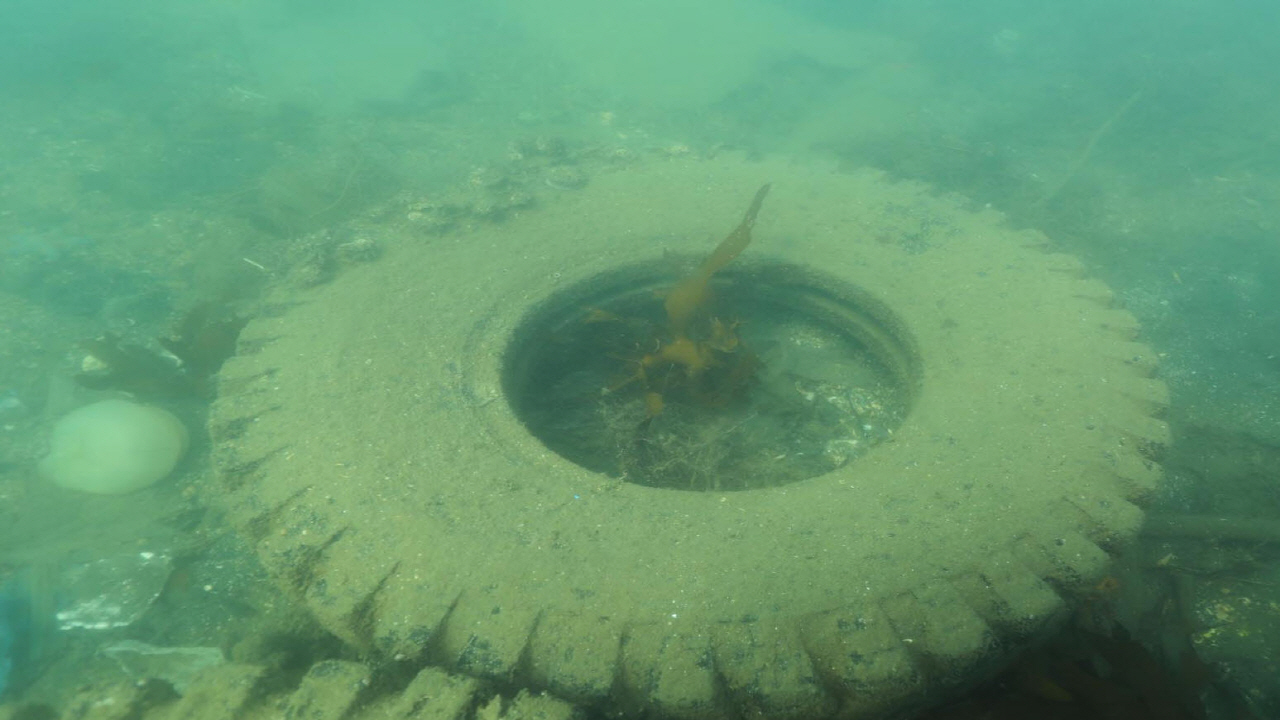tire: (209, 147, 1172, 720)
